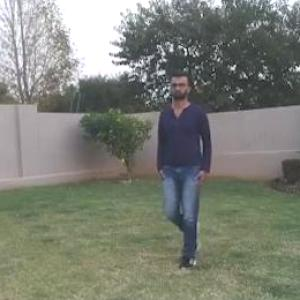follow: (159, 77, 210, 250)
